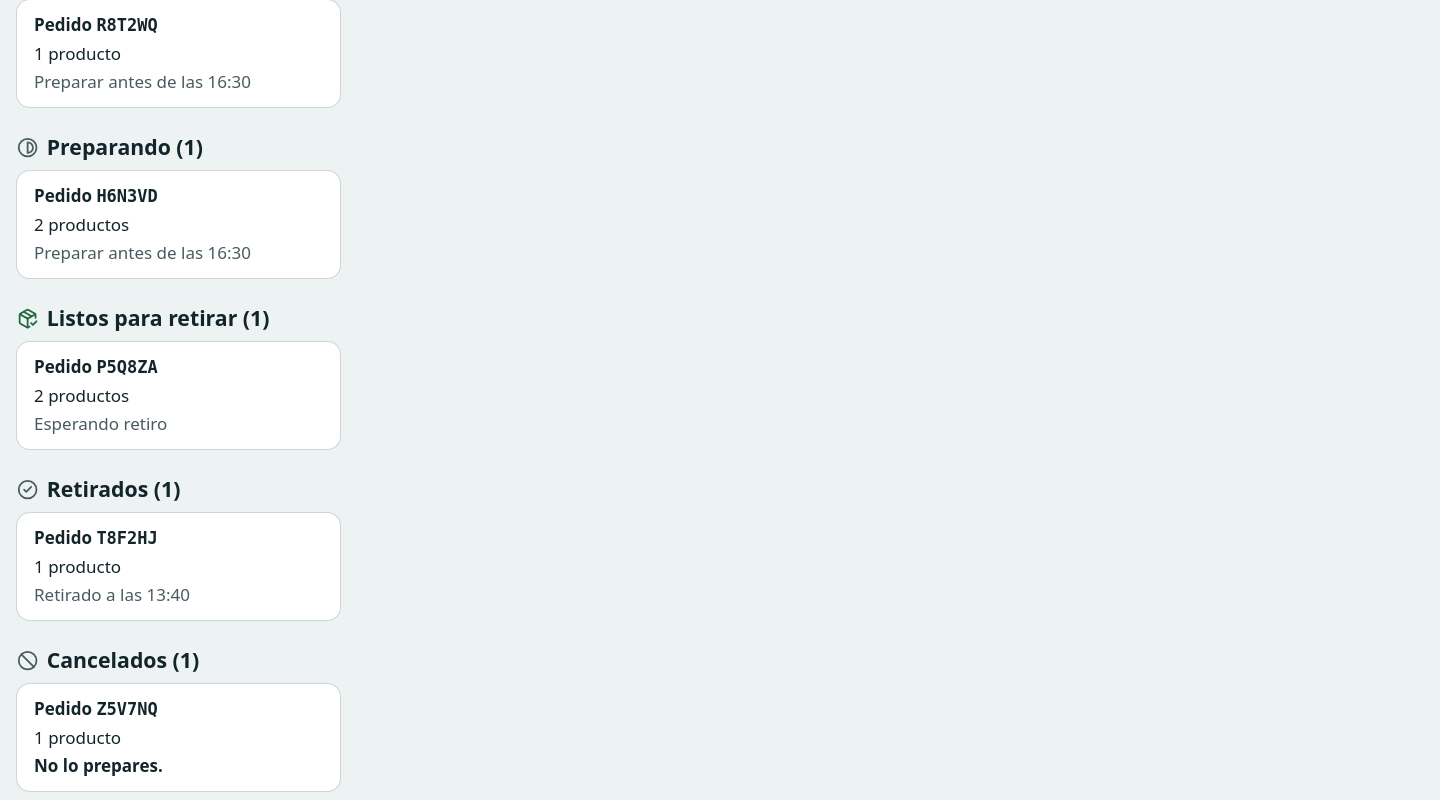
P1 › 4: «vencido» quita el campo y el foco queda en su nota
(page scrolled)
Click the button "Pedido P5Q8ZA 2 productos Esperando retiro" at (63, 367), box 17,342 -> 340,449
(page scrolled)
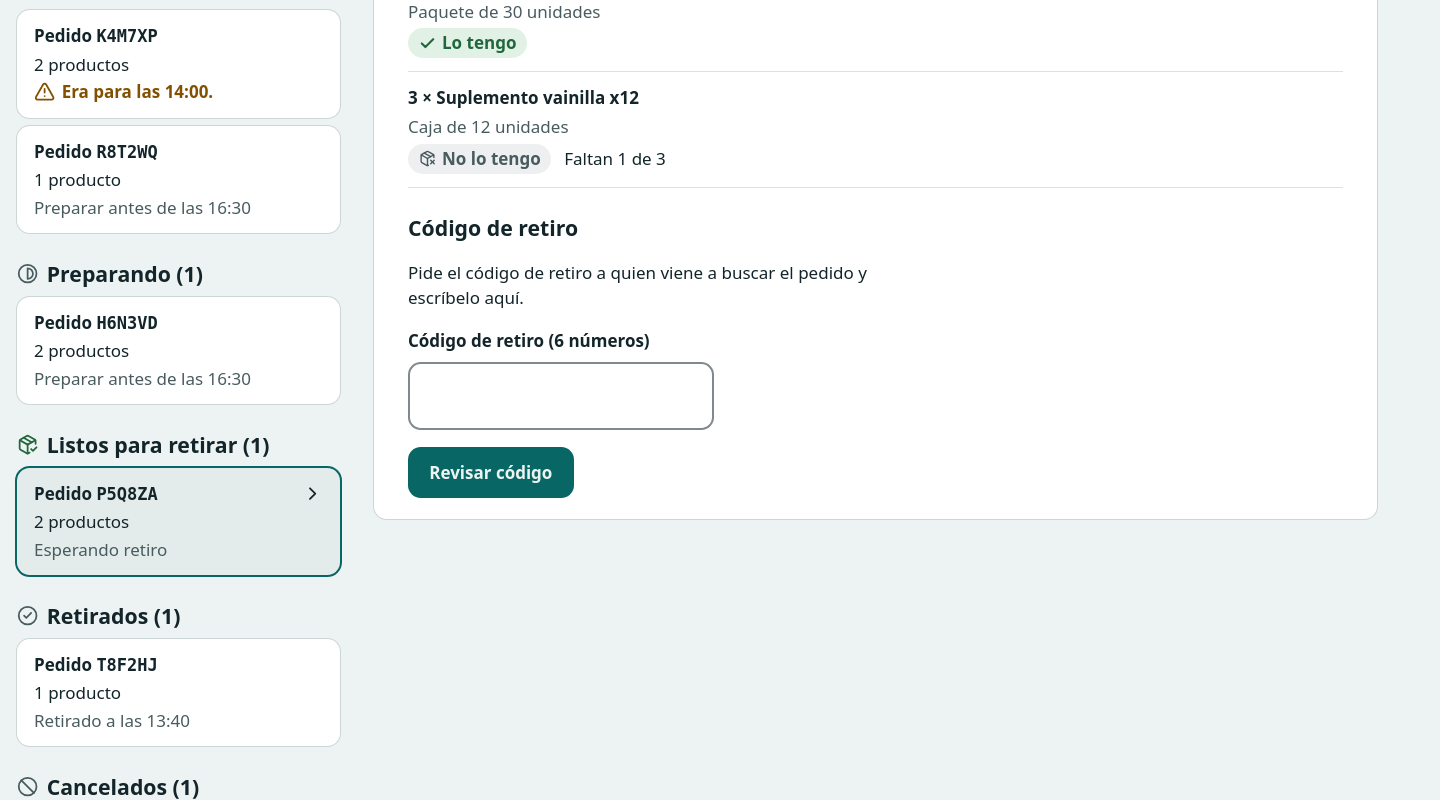
Type "123456" into the field labelled "Código de retiro (6 números)" at (561, 396), box 408,362 -> 714,430
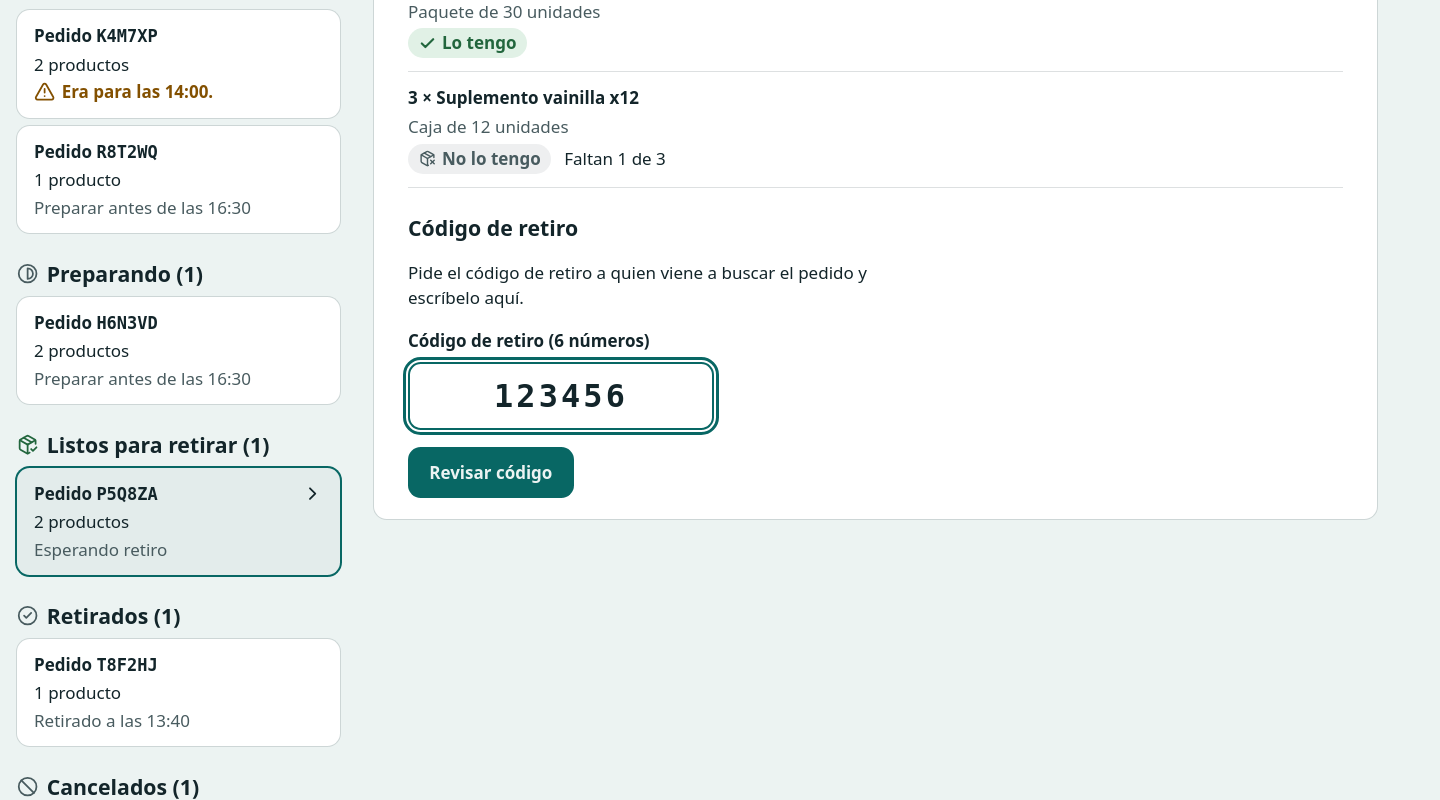
Click the button "Revisar código" at (491, 472), box 408,447 -> 574,498
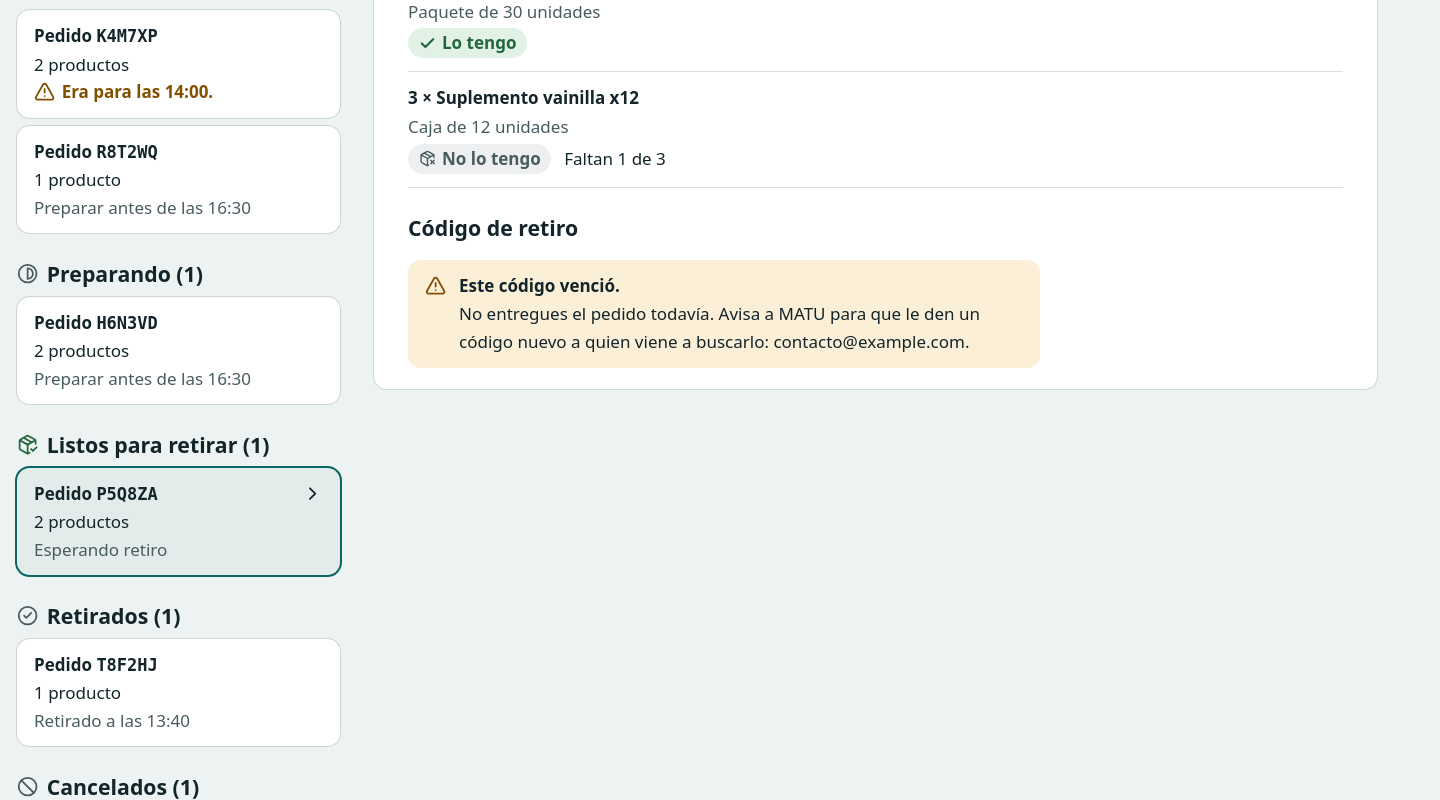
Expected: the text "Este código venció." is shown, 459,274 -> 620,296
Expected: the label labelled "Código de retiro (6 números)" is gone
